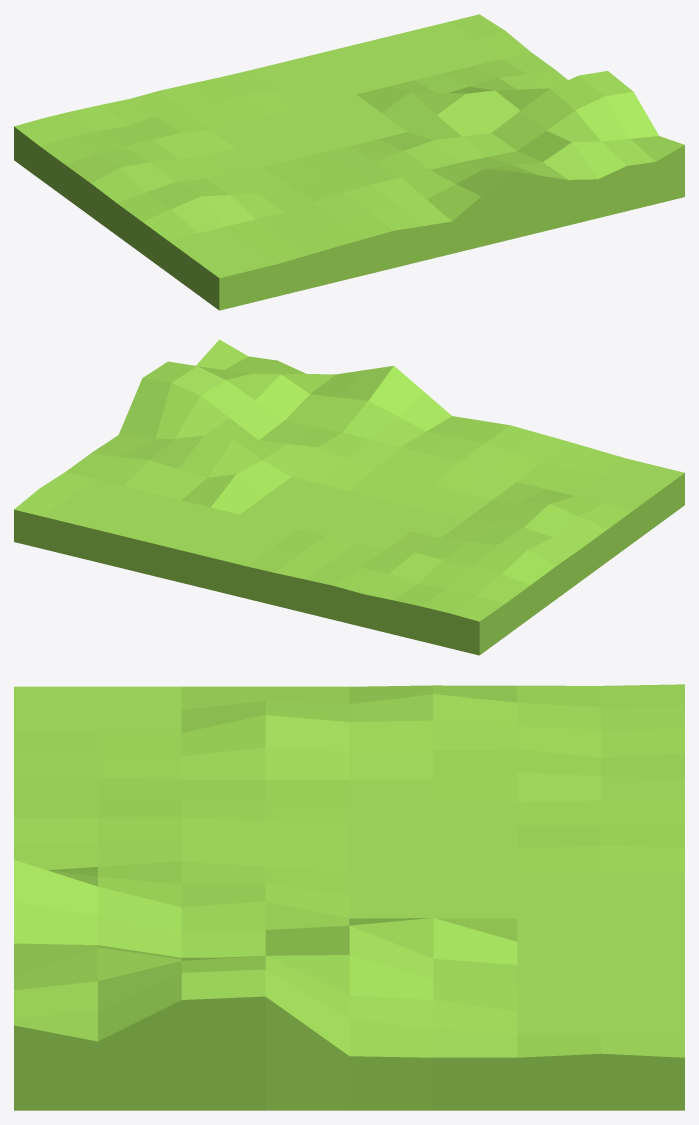
3 renders of one model, top to bottom at view 1: azimuth 30°, elevation 25°; view 2: azimuth 150°, elevation 25°; view 3: azimuth 270°, elevation 25°, orthographic. The views are drawn at different scales.
Parts seen in each view (by area): view 1: 2/2; view 2: 2/2; view 3: 2/2.
Part boxes in pixels (x1=…): 2/2: x1=14, y1=14, x2=684, y2=310; 2/2: x1=14, y1=339, x2=684, y2=655; 2/2: x1=14, y1=684, x2=684, y2=1110.
Bounding box in the file's own units: 5338 × 791 × 4080.
